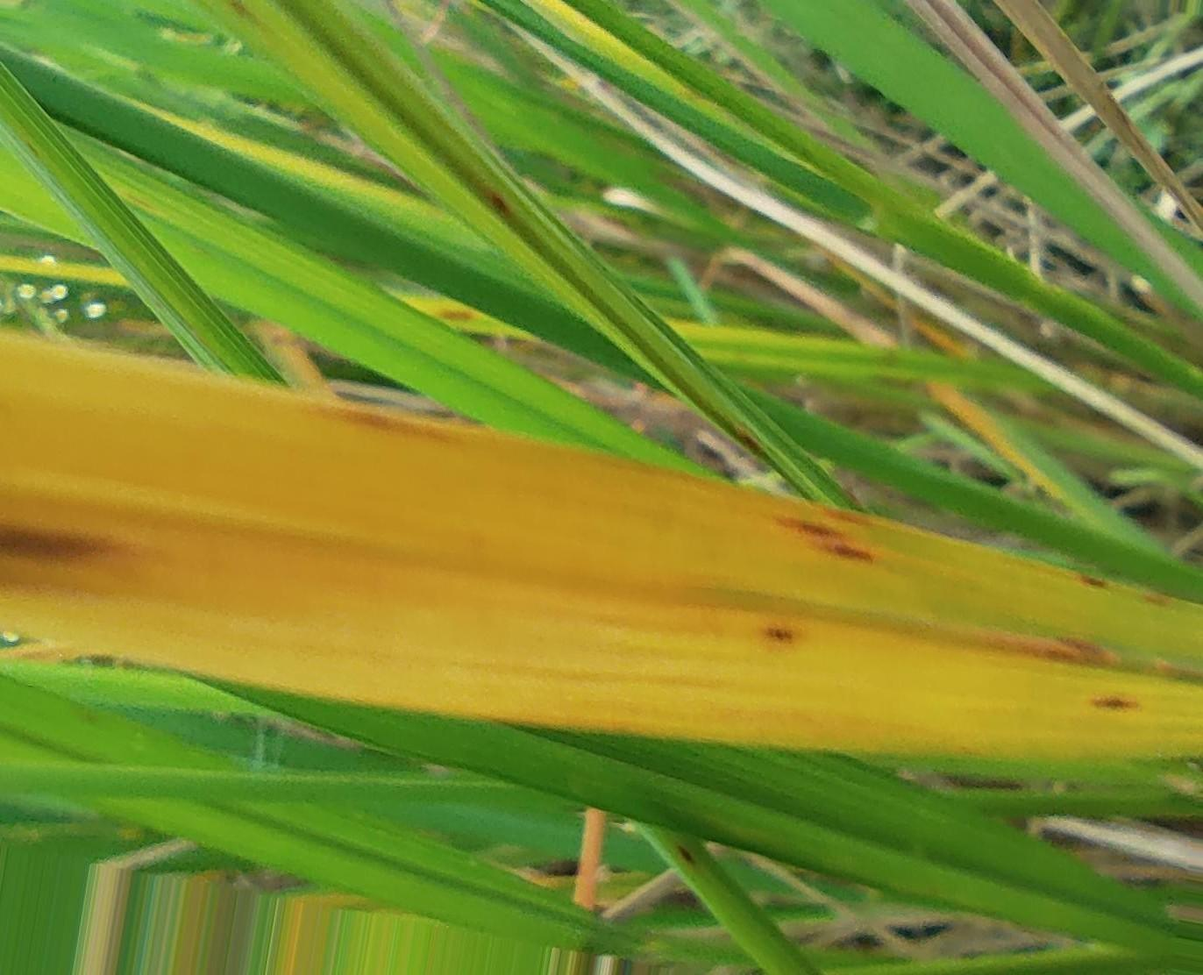LEAF: (0, 335, 1202, 758)
NBS: (318, 405, 456, 445), (772, 516, 847, 537), (813, 503, 872, 526), (815, 539, 873, 558), (762, 628, 802, 645), (1091, 696, 1141, 709)
